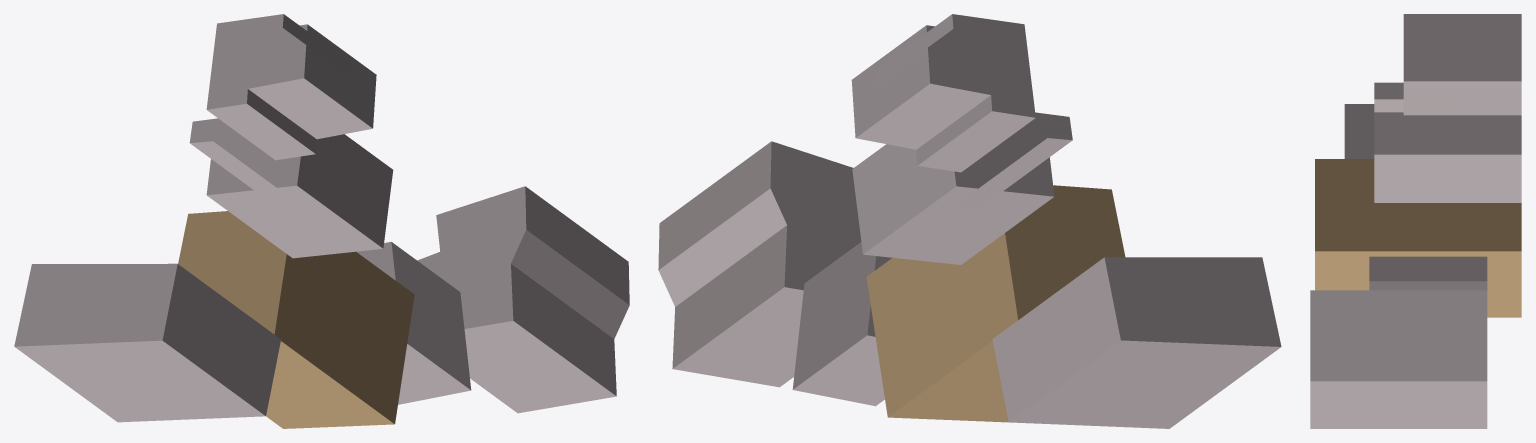
3 views of the same model, side by side, from view 1: azimuth 30°, elevation 25°; view 2: azimuth 150°, elevation 25°; view 3: azimuth 270°, elevation 25° (orthographic). The views are drawn at different scales.
Parts seen in each view (by area): view 1: 0_3_0_1_1_1_0_2_0; view 2: 0_3_0_1_1_1_0_2_0; view 3: 0_3_0_1_1_1_0_2_0.
Part boxes in pixels (bbox=[...]): 0_3_0_1_1_1_0_2_0: bbox=[14, 14, 629, 428]; 0_3_0_1_1_1_0_2_0: bbox=[658, 14, 1281, 428]; 0_3_0_1_1_1_0_2_0: bbox=[1310, 14, 1521, 428].
Bounding box in the file's own units: 49.42 × 33.6 × 21.5.
